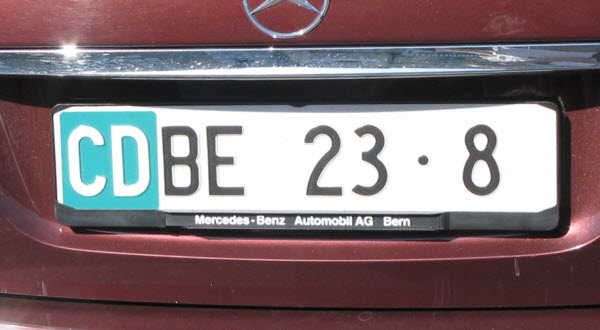license_plate: (52, 103, 560, 214)
